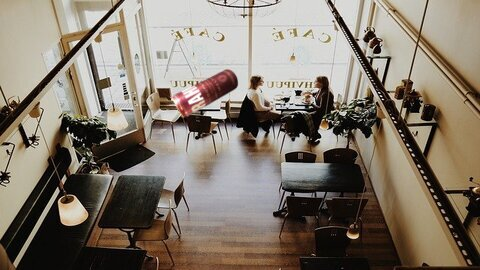duplo_malte: (173, 63, 236, 126)
